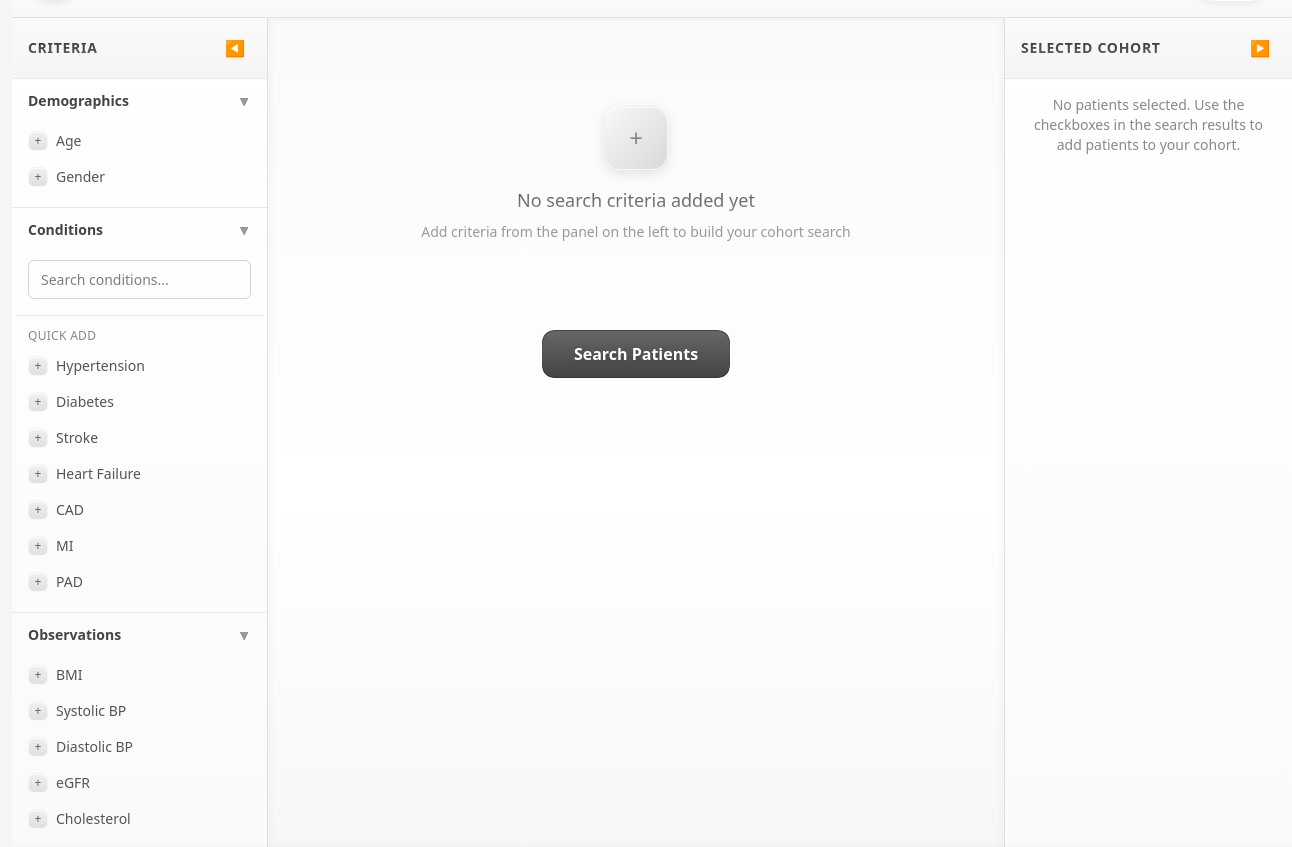
CohortBuilderPage › Updating criteria › should update query when gender changes
The width and height of the screenshot is (1292, 847).
Click the button with aria-label "Add Gender" at (140, 177), box x1=16 y1=159 x2=263 y2=195
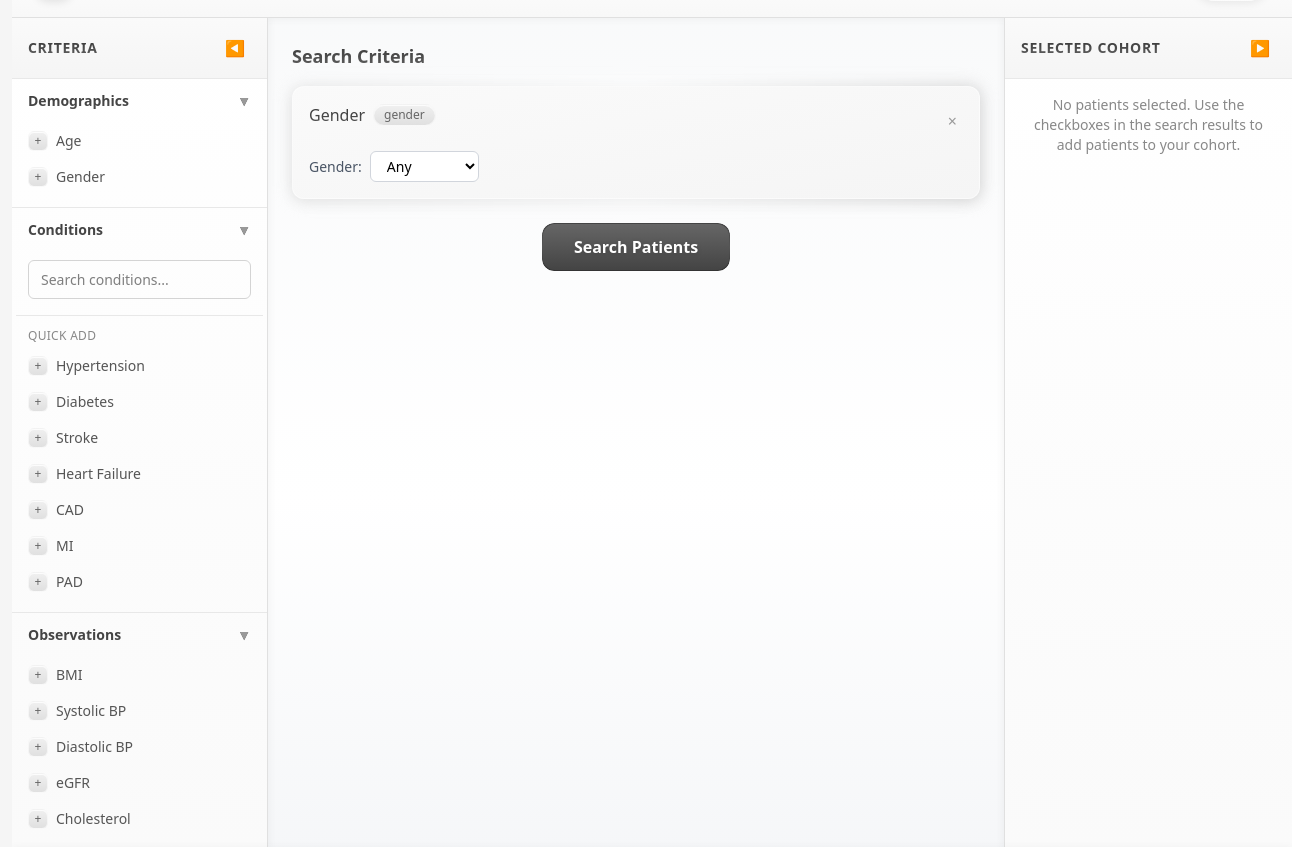
Select "Female" in the dropdown named "Select gender" at (424, 166), box x1=370 y1=151 x2=479 y2=182
(page scrolled)
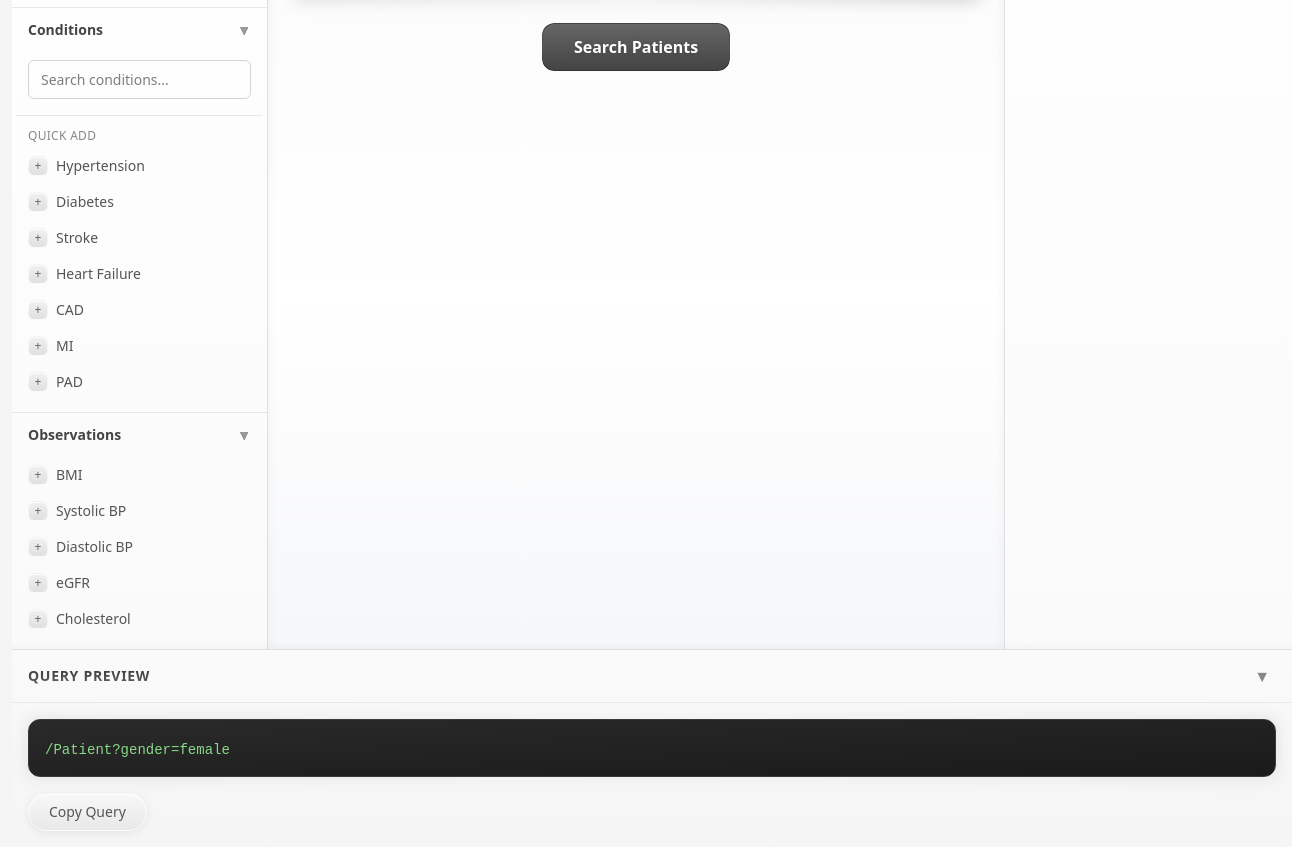
Expected: the text "/Patient?gender=female" is shown, x1=45 y1=742 x2=230 y2=758
